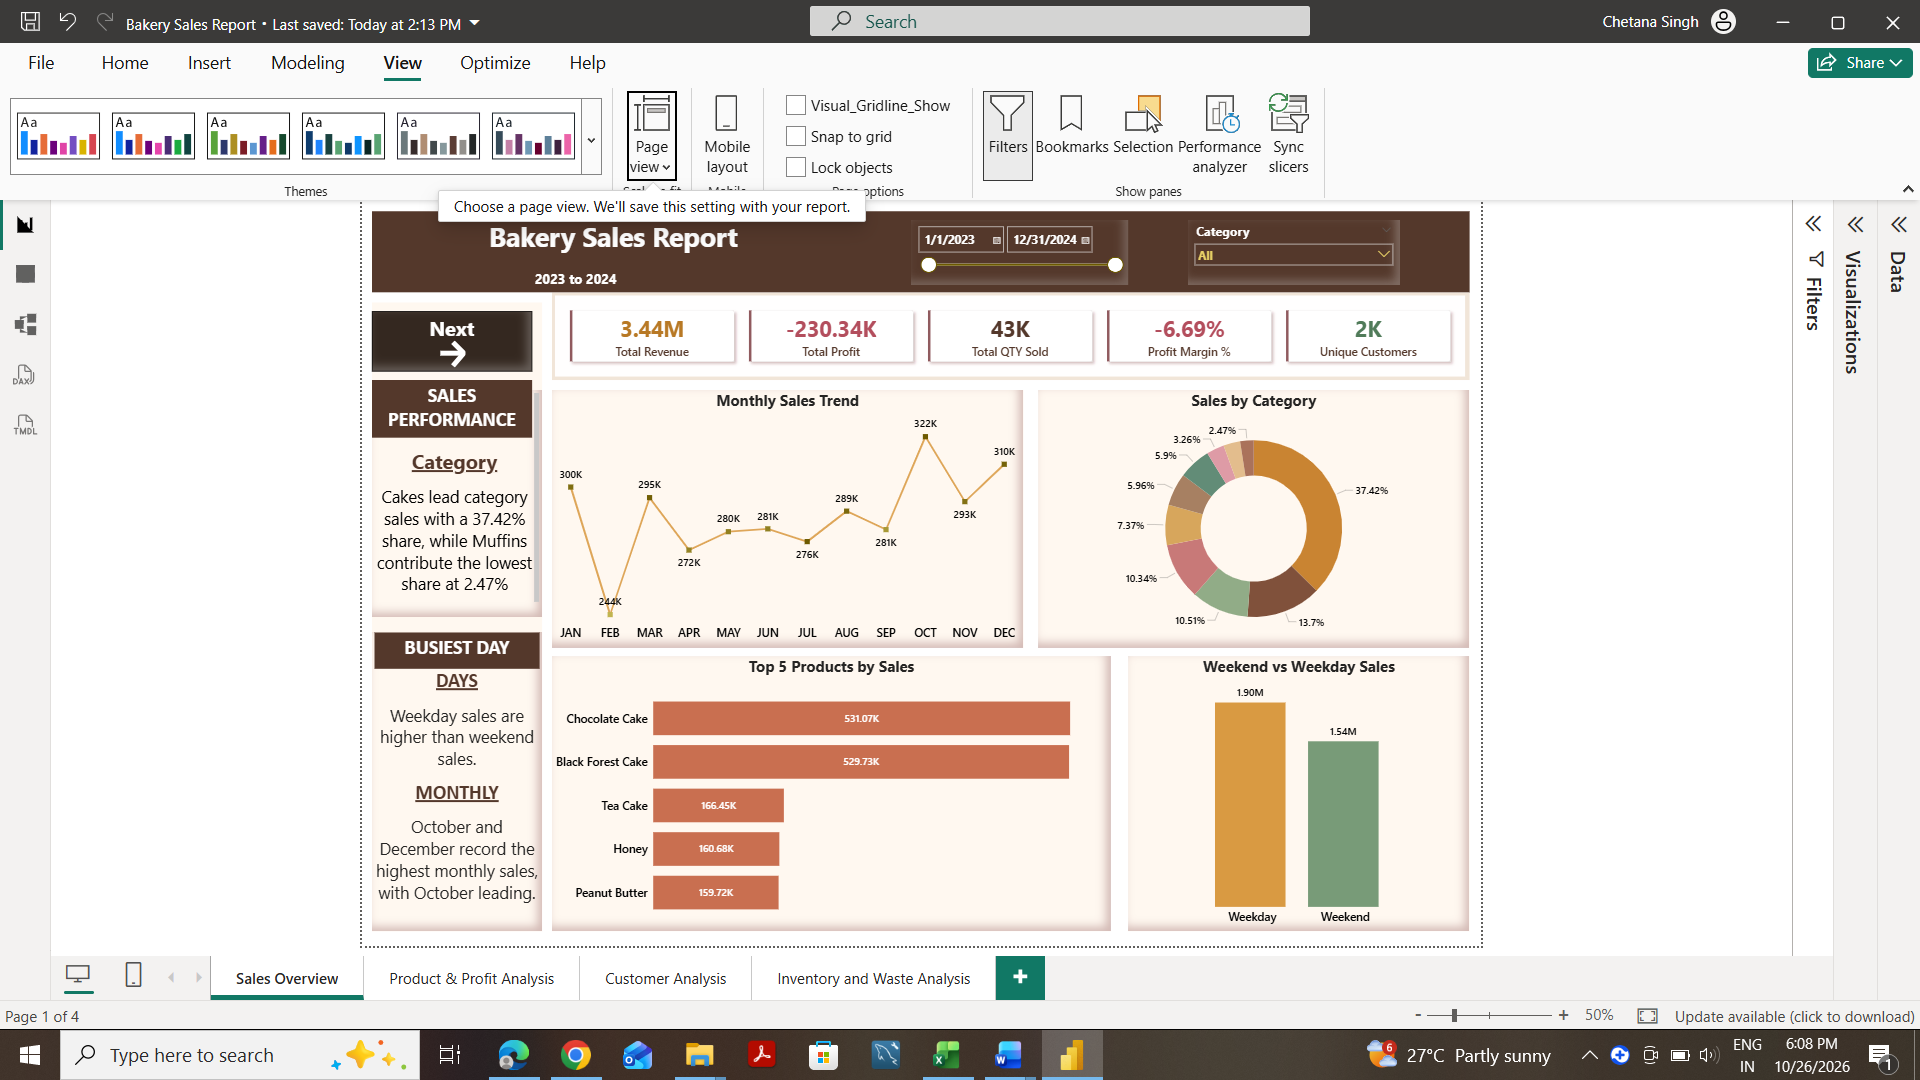

This screenshot's page, from the dashboard's own definition file:
{"tool":"powerbi","page":{"name":"Sales Overview","canvas":[1800,1200],"ordinal":0},"visuals":[{"type":"cardVisual","fields":{"Data":["bakery_sales bakery_dataset.Total_Revenue","bakery_sales bakery_dataset.Total_Profit","bakery_sales bakery_dataset.Total_QTY_Sold","bakery_sales bakery_dataset.Profit Margin %","bakery_sales bakery_dataset.Unique_Customers"]},"box":[305.6,148.8,1475.9,140.8],"z":0},{"type":"textbox","box":[16.1,18.1,1765.4,130.7],"z":1000},{"type":"textbox","box":[16.1,24.1,776.1,68.4],"z":2000},{"type":"textbox","box":[199.1,106.6,289.5,42.2],"z":3000},{"type":"lineChart","title":"Monthly Sales Trend","fields":{"Category":["bakery_sales bakery_dataset.Order_Month"],"Y":["Sum(bakery_sales bakery_dataset.Total_Bill)"]},"box":[305.6,305.6,758,414.2],"z":4000},{"type":"barChart","title":"Top 5 Products by Sales","fields":{"Category":["bakery_sales bakery_dataset.Product"],"Y":["Sum(bakery_sales bakery_dataset.Total_Bill)"]},"box":[305.6,733.9,898.8,442.4],"z":5000},{"type":"columnChart","title":"Weekend vs Weekday Sales","fields":{"Y":["Sum(bakery_sales bakery_dataset.Total_Bill)"],"Category":["bakery_sales bakery_dataset.Day Type"]},"box":[1232.6,733.9,548.9,442.4],"z":6000},{"type":"donutChart","title":"Sales by Category","fields":{"Category":["bakery_sales bakery_dataset.Category"],"Y":["Sum(bakery_sales bakery_dataset.Total_Bill)"]},"box":[1087.8,305.6,693.7,414.2],"z":7000},{"type":"textbox","box":[16.1,164.9,273.5,1011.4],"z":8000},{"type":"textbox","box":[16.1,305.6,273.5,366],"z":9000},{"type":"textbox","box":[16.1,695.7,273.5,480.6],"z":10000},{"type":"textbox","box":[16.1,289.5,257.4,92.5],"z":11000},{"type":"textbox","box":[20.1,695.7,265.4,58.3],"z":12000},{"type":"slicer","fields":{"Values":["bakery_sales bakery_dataset.Date"]},"box":[882.7,32.2,349.9,104.6],"z":13000},{"type":"slicer","fields":{"Values":["bakery_sales bakery_dataset.Category"]},"box":[1329.1,32.2,339.8,104.6],"z":14000},{"type":"actionButton","box":[16.1,179,257.4,96.5],"z":15000}]}

Visuals, with their boxes on the page's 1800x1200 design canvas (x1, y1, x2, y2). These are canvas units, not pixel positions in the 1920x1080 screenshot, which may show the page scaled, cropped or inside an application window:
cardVisual - bakery_sales bakery_dataset.Total_Revenue x bakery_sales bakery_dataset.Total_Profit: <bbox>306, 149, 1782, 290</bbox>
textbox: <bbox>16, 18, 1782, 149</bbox>
textbox: <bbox>16, 24, 792, 92</bbox>
textbox: <bbox>199, 107, 489, 149</bbox>
"Monthly Sales Trend" lineChart: <bbox>306, 306, 1064, 720</bbox>
"Top 5 Products by Sales" barChart: <bbox>306, 734, 1204, 1176</bbox>
"Weekend vs Weekday Sales" columnChart: <bbox>1233, 734, 1782, 1176</bbox>
"Sales by Category" donutChart: <bbox>1088, 306, 1782, 720</bbox>
textbox: <bbox>16, 165, 290, 1176</bbox>
textbox: <bbox>16, 306, 290, 672</bbox>
textbox: <bbox>16, 696, 290, 1176</bbox>
textbox: <bbox>16, 290, 274, 382</bbox>
textbox: <bbox>20, 696, 286, 754</bbox>
slicer - bakery_sales bakery_dataset.Date: <bbox>883, 32, 1233, 137</bbox>
slicer - bakery_sales bakery_dataset.Category: <bbox>1329, 32, 1669, 137</bbox>
actionButton: <bbox>16, 179, 274, 276</bbox>
